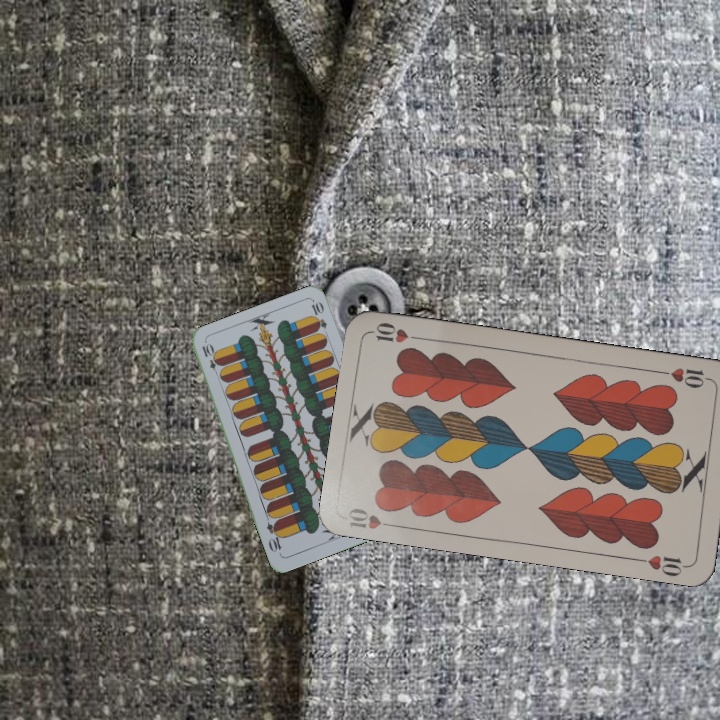E10: (198, 340, 223, 379)
H10: (343, 503, 401, 532), (656, 364, 715, 391)
